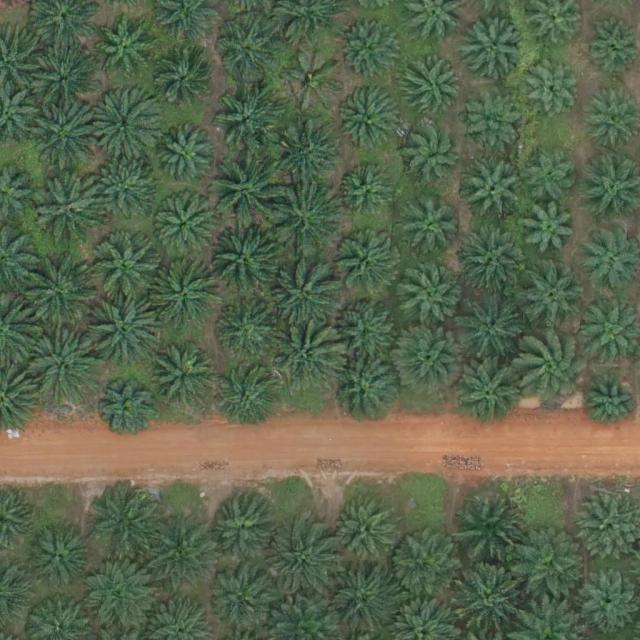Healthy: (516, 331, 594, 410), (512, 532, 583, 603), (141, 522, 212, 593), (87, 490, 158, 561), (455, 229, 526, 300), (455, 292, 526, 363), (270, 114, 341, 185), (209, 157, 280, 228), (89, 89, 160, 160), (92, 235, 163, 306), (32, 99, 103, 170), (35, 172, 106, 243), (457, 492, 527, 563), (389, 530, 460, 600), (325, 567, 396, 637), (268, 525, 338, 596), (207, 494, 277, 565), (208, 562, 278, 633), (453, 359, 523, 430), (330, 355, 400, 426), (269, 257, 339, 328), (271, 186, 341, 257), (210, 224, 280, 295), (150, 345, 220, 416), (94, 296, 164, 367), (24, 255, 94, 326), (29, 335, 99, 406), (453, 562, 523, 632), (83, 564, 153, 634), (516, 262, 586, 332), (396, 327, 466, 397), (271, 323, 341, 393), (213, 82, 283, 152), (149, 260, 219, 330), (30, 523, 93, 586), (460, 89, 523, 152), (465, 163, 528, 226), (399, 266, 462, 329), (337, 231, 400, 294), (217, 301, 280, 364), (215, 369, 278, 432), (94, 18, 157, 81), (577, 566, 639, 629), (332, 501, 394, 564), (463, 19, 525, 82), (399, 58, 461, 121), (402, 121, 464, 184), (340, 18, 402, 81), (338, 90, 400, 153), (215, 18, 277, 81), (153, 196, 215, 259), (95, 163, 158, 225), (338, 295, 400, 357), (151, 55, 213, 117), (33, 48, 95, 110), (584, 376, 639, 431), (524, 61, 579, 116), (524, 149, 579, 204), (522, 204, 577, 259), (404, 201, 459, 256), (339, 168, 394, 223), (159, 130, 214, 185), (98, 384, 153, 439)
Yellow: (283, 49, 345, 112)
